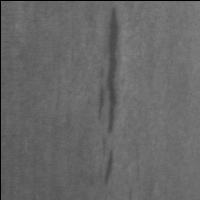inclusion: (94, 5, 124, 138), (97, 138, 119, 188)
